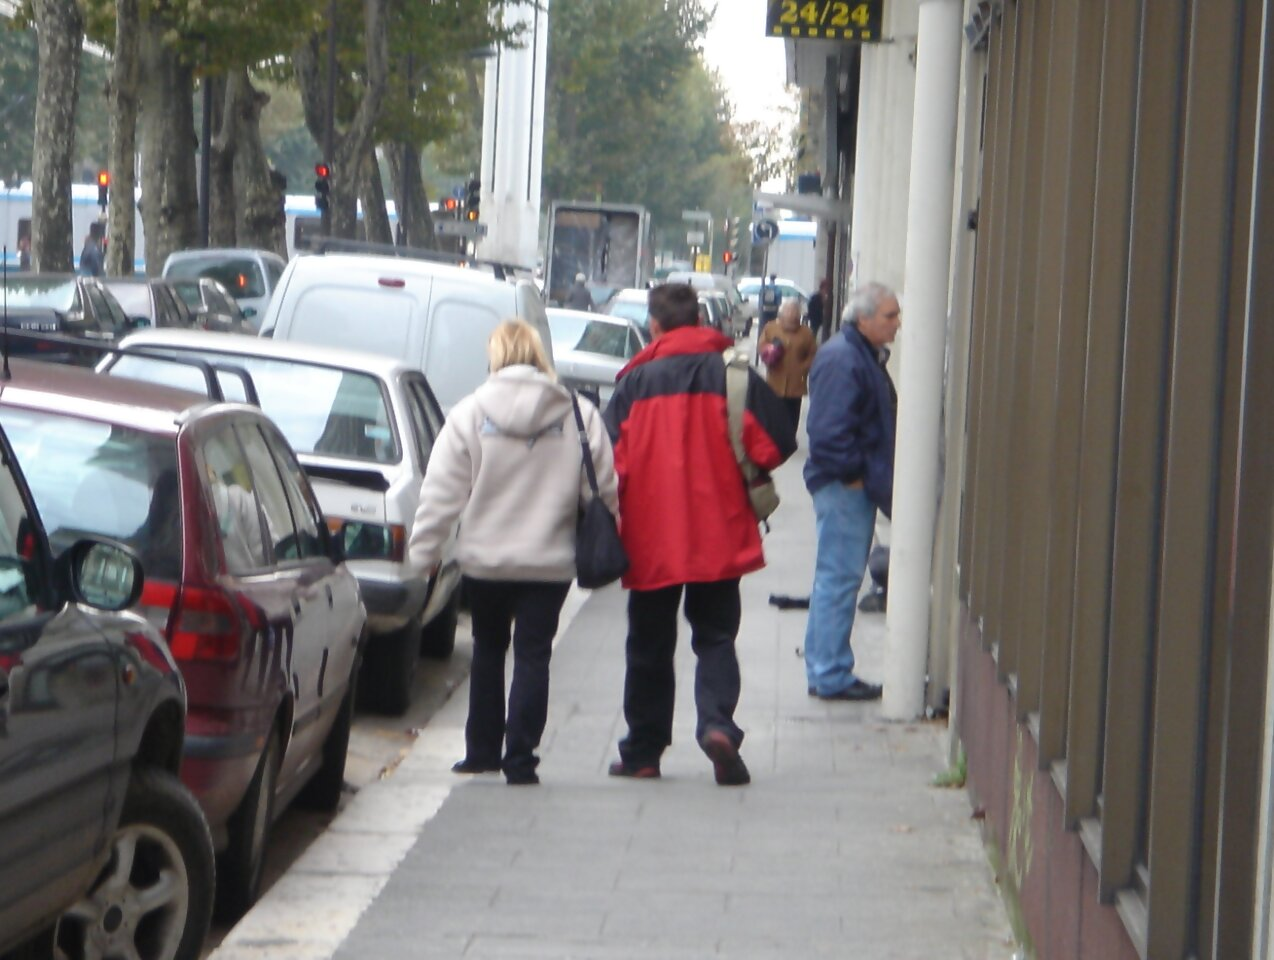person: (596, 267, 789, 799), (414, 307, 612, 792), (805, 268, 907, 709)
